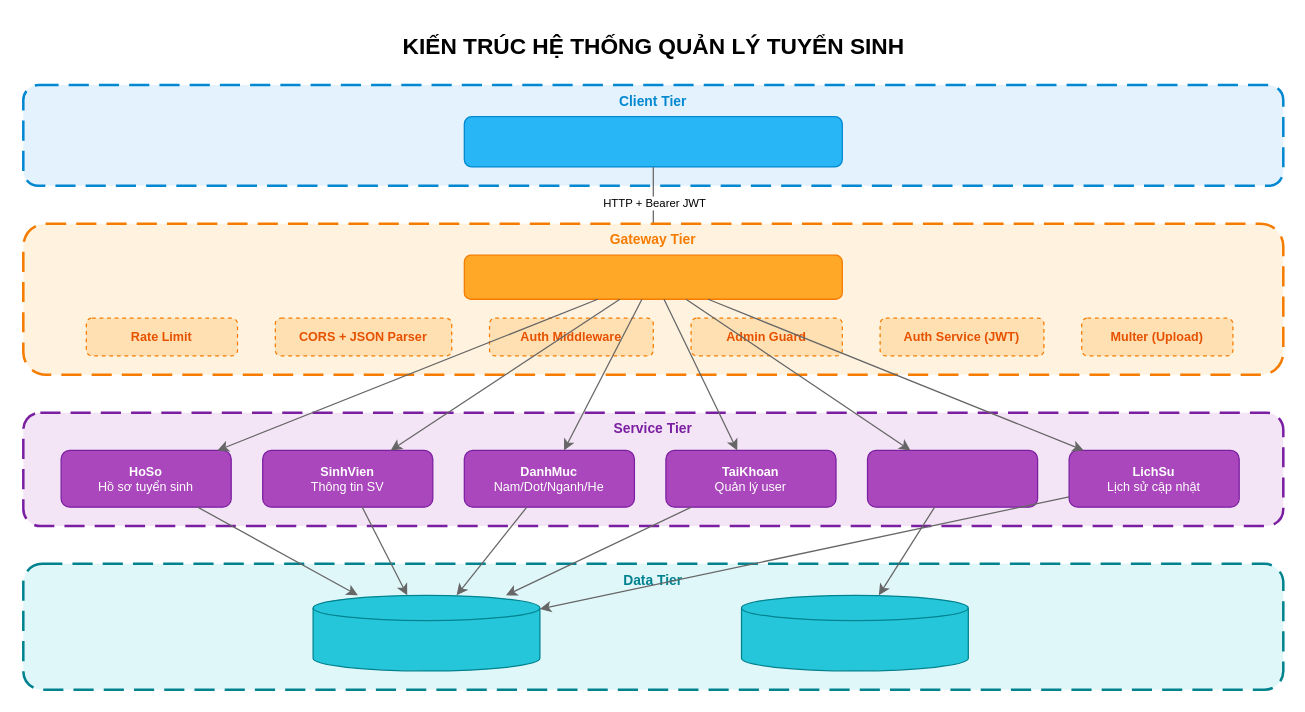
The diagram is 1305 pixels wide and 712 high, and some of its shapes have lost their labels. The centre of each missing label's shape, as x and y in pixels:
/uploads/ File system: the point at 854,632
API Gateway (Express): the point at 652,276
Database: the point at 426,632
TepDinhKem Upload (Multer): the point at 952,478
Web Application React 19 SPA + Vite: the point at 652,141
